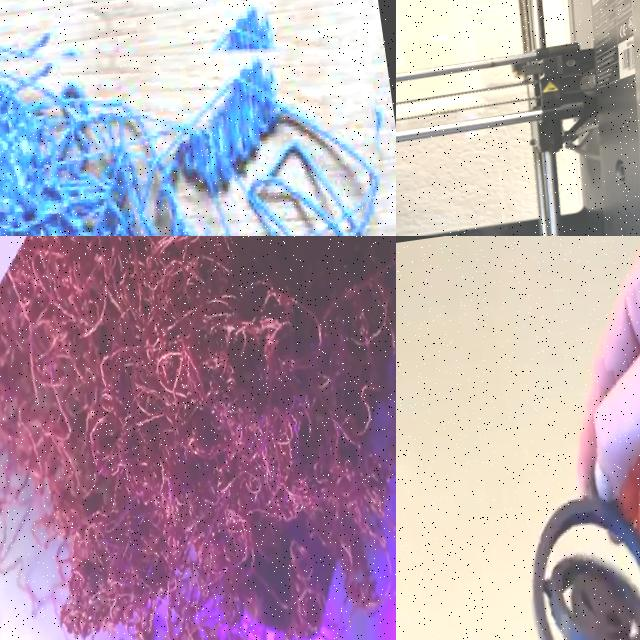spaghetti: (0, 236, 396, 640), (0, 48, 382, 236)
